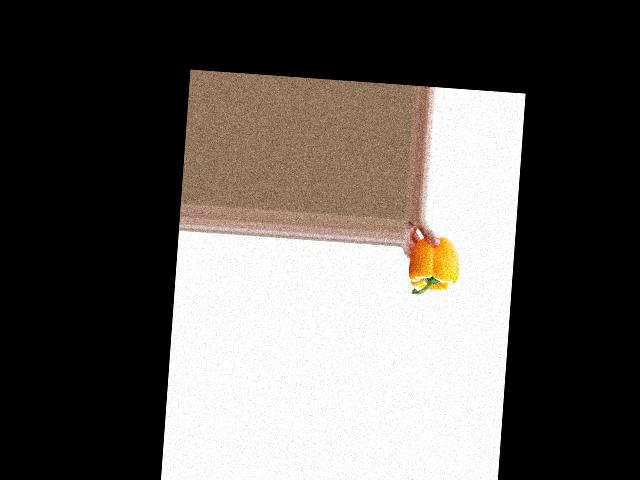bell_pepper: (407, 233, 462, 300)
